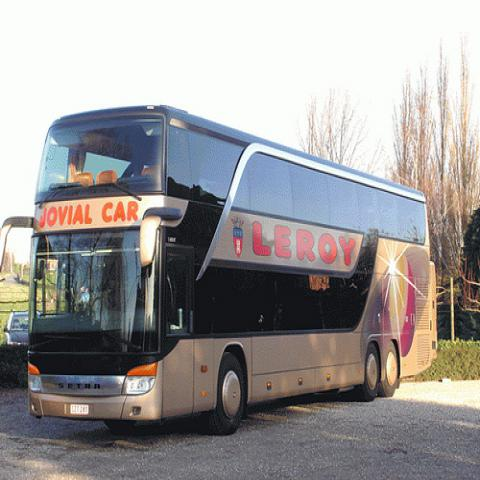bus: (0, 106, 438, 437)
car: (6, 310, 31, 348)
